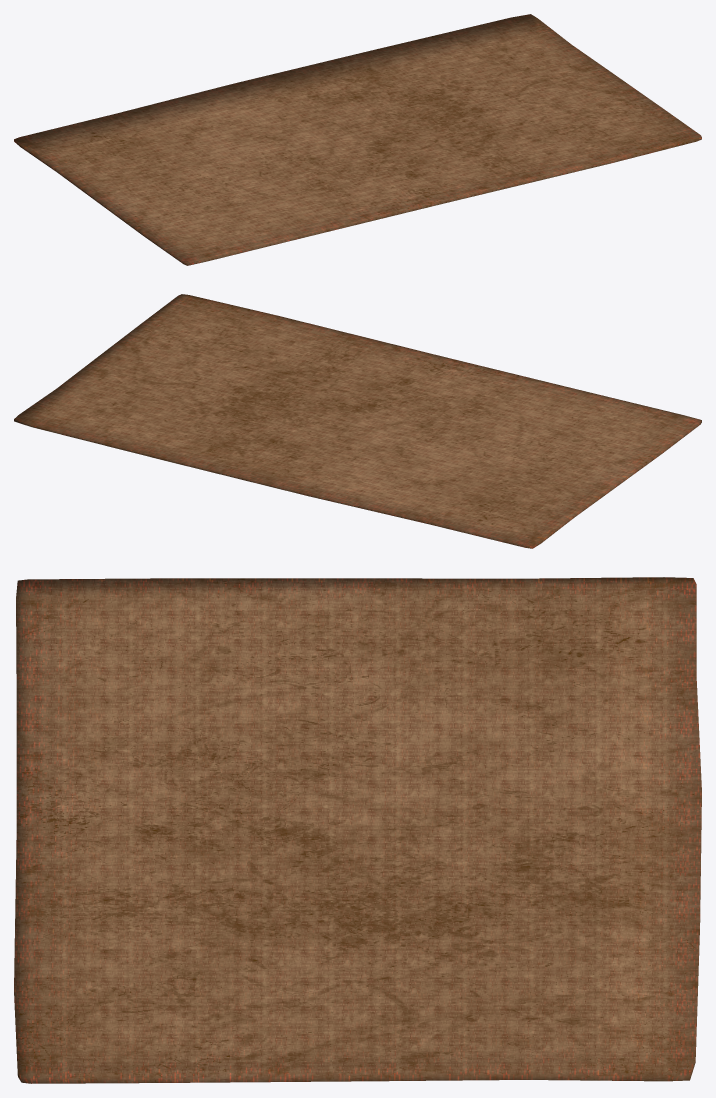
The picture shows the model from 3 angles, top to bottom: view 1: azimuth 30°, elevation 25°; view 2: azimuth 150°, elevation 25°; view 3: azimuth 270°, elevation 25°; orthographic projection. The views are drawn at different scales.
Visible parts, largest first — view 1: L_M_Mat_0; view 2: L_M_Mat_0; view 3: L_M_Mat_0.
Boxes of the visible parts, x1=… form: L_M_Mat_0: x1=14, y1=14, x2=701, y2=265; L_M_Mat_0: x1=14, y1=294, x2=701, y2=548; L_M_Mat_0: x1=14, y1=577, x2=701, y2=1083.
Bounding box in the file's own units: 1.92 × 0.00787 × 1.11.
1 material, 1 textured.
